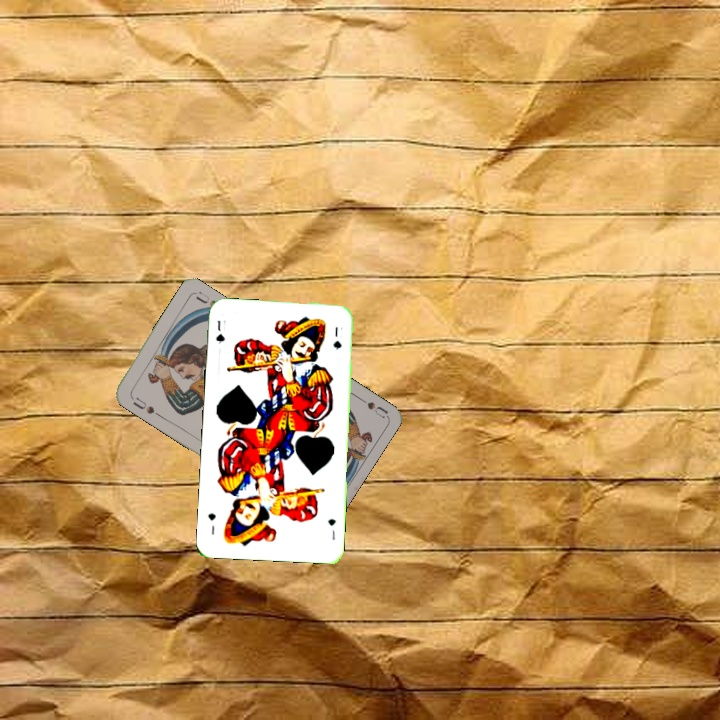GU: (212, 316, 228, 346), (324, 515, 338, 542)
SU: (351, 391, 389, 420), (129, 393, 157, 417)
